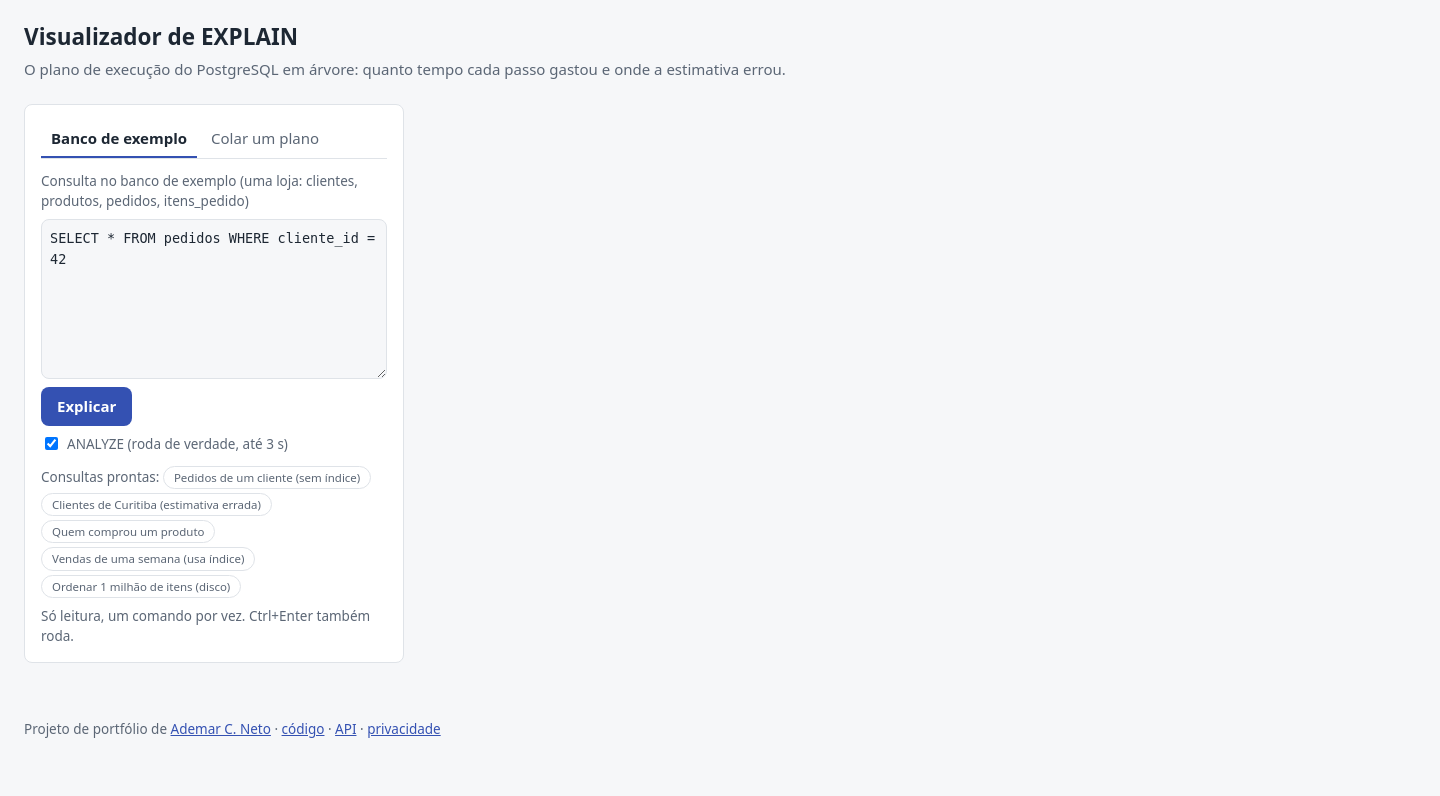
Test case: página com o plano › abre no nó do alerta mais grave, e o alerta leva o painel para o nó dele
The width and height of the screenshot is (1440, 796).
Click the tab "Colar um plano" at point(265, 140), box top-left (201, 121), bottom-right (329, 158)
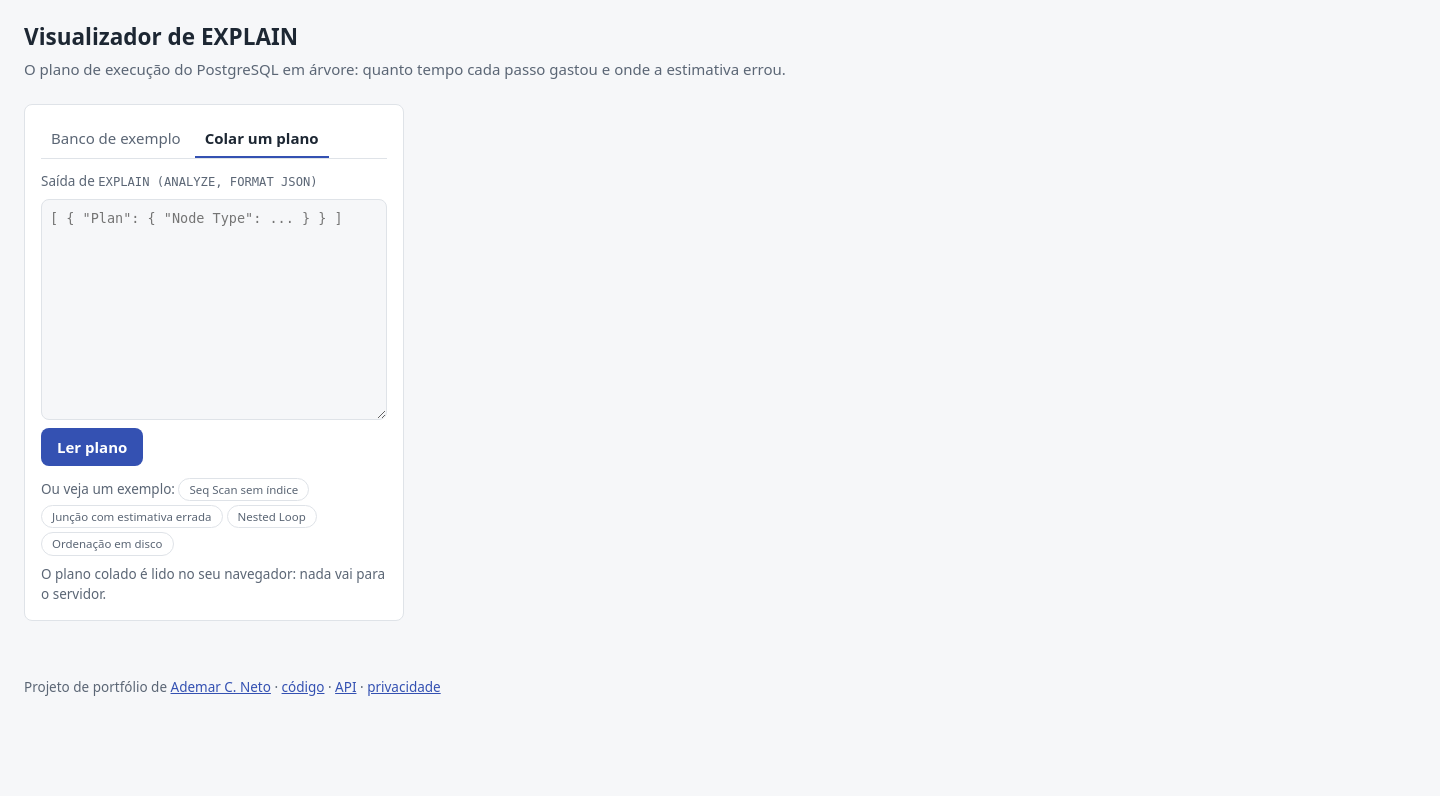
Click the button with class "chip" showing "Nested Loop" at point(272, 517), box top-left (226, 505), bottom-right (317, 528)
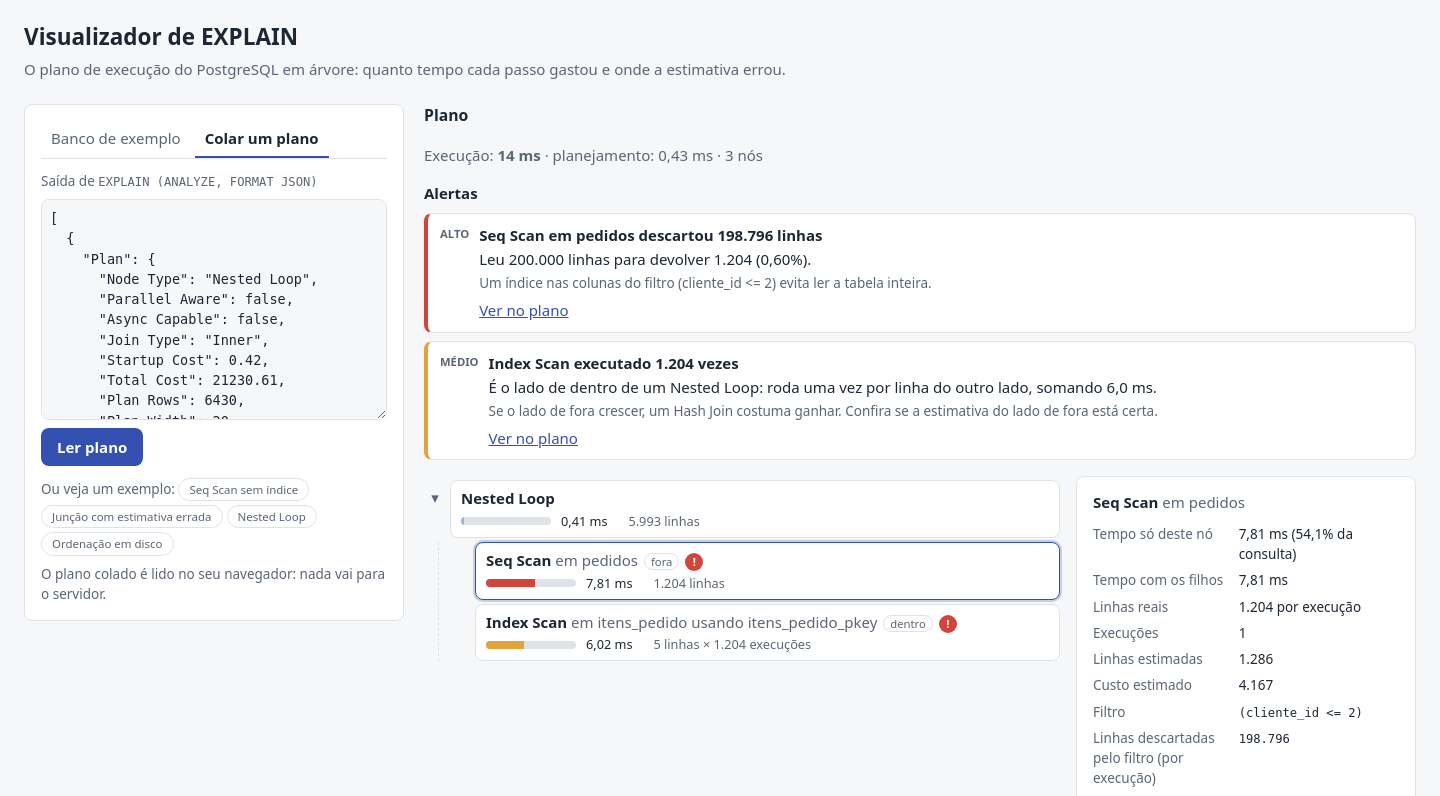
Expected: the heading "Seq Scan em pedidos" is shown, top-left (1093, 492), bottom-right (1245, 512)
Click the button "Ver no plano" below "Index Scan executado 1.204 vezes" at point(533, 438), box top-left (489, 427), bottom-right (578, 449)
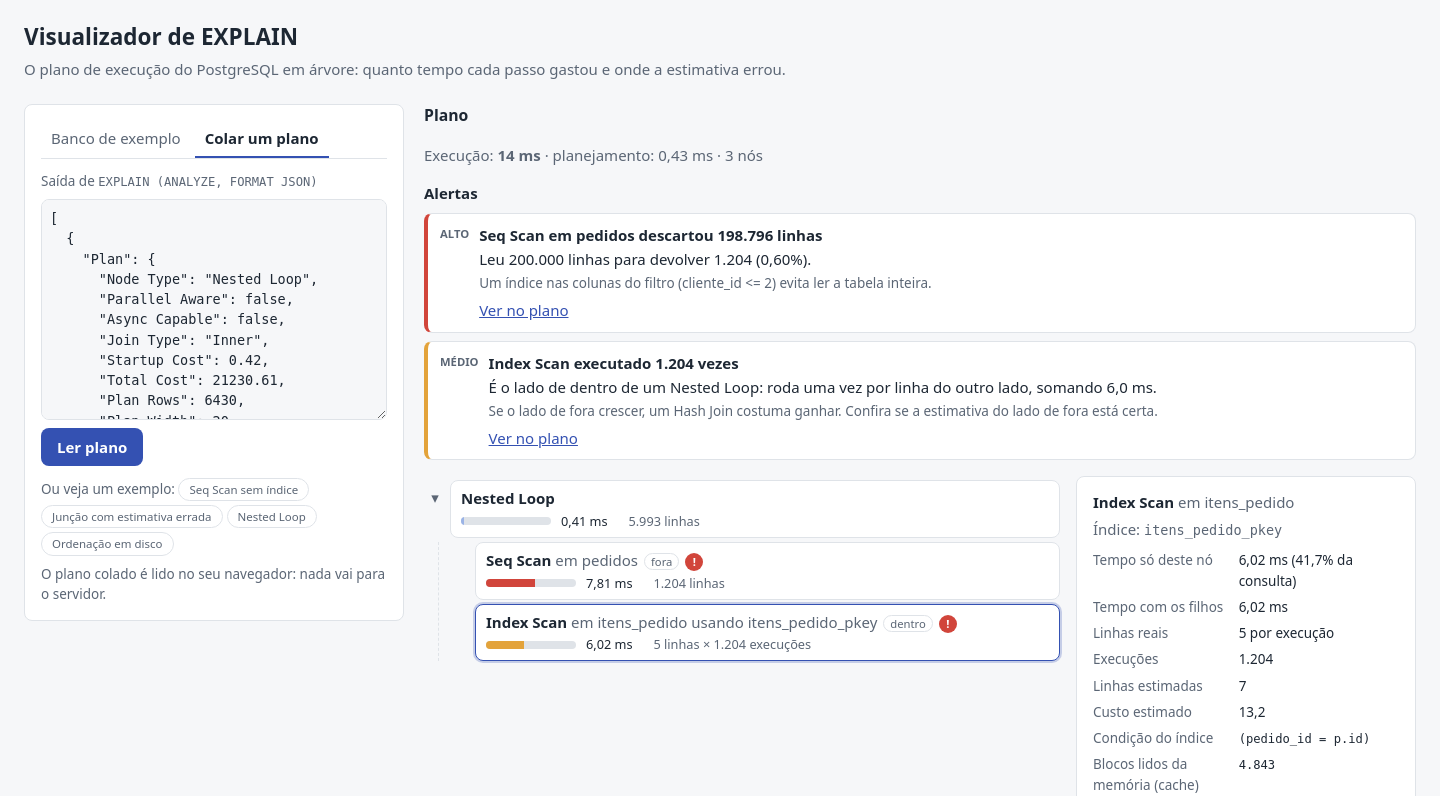
Expected: the heading "Index Scan em itens_pedido" is shown, top-left (1093, 492), bottom-right (1294, 512)
